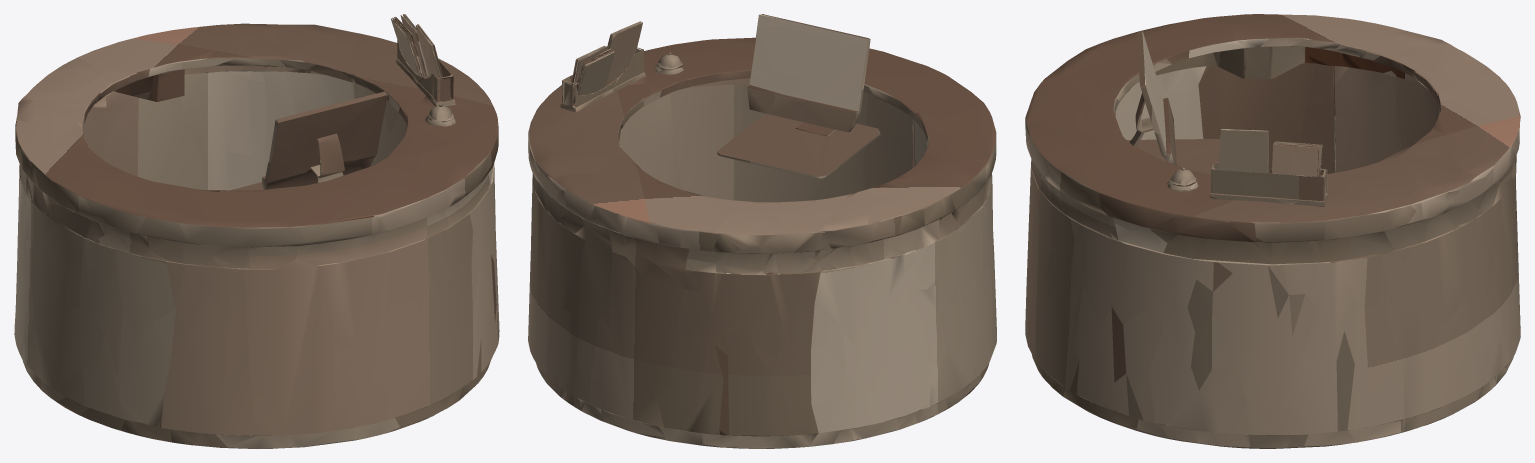
File: term_info.glb
The picture shows the model from 3 angles, left to right: view 1: azimuth 30°, elevation 25°; view 2: azimuth 150°, elevation 25°; view 3: azimuth 270°, elevation 25°; orthographic projection. The views are drawn at different scales.
Visible parts, largest first — view 1: LO; view 2: LO; view 3: LO.
Part boxes in pixels (x1,y1,x2,y2): LO: (14, 14, 499, 448); LO: (528, 14, 996, 448); LO: (1025, 14, 1520, 448).
Size of the model in its own units: 2.09 by 1.37 by 2.09.
1 material, 1 textured.
